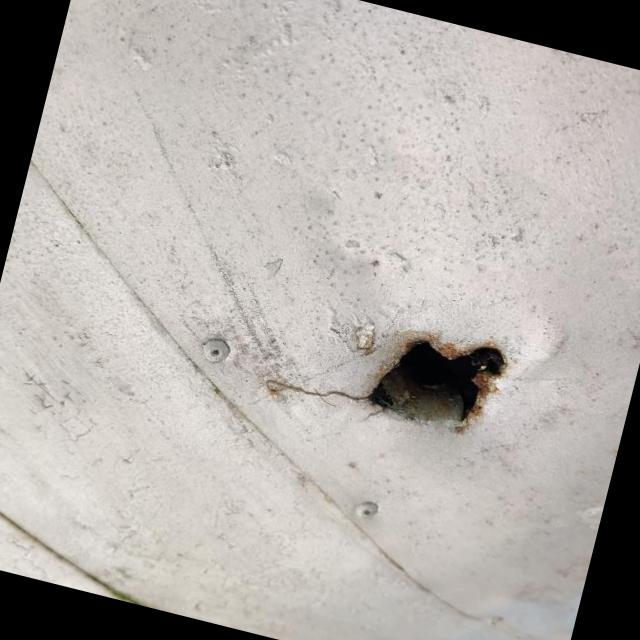Crack: (369, 343, 505, 426)
